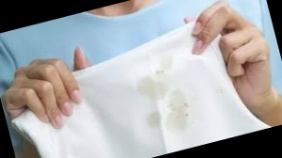oil: (161, 86, 198, 138), (130, 68, 172, 105), (148, 52, 179, 82), (147, 110, 169, 130), (213, 83, 229, 98)
